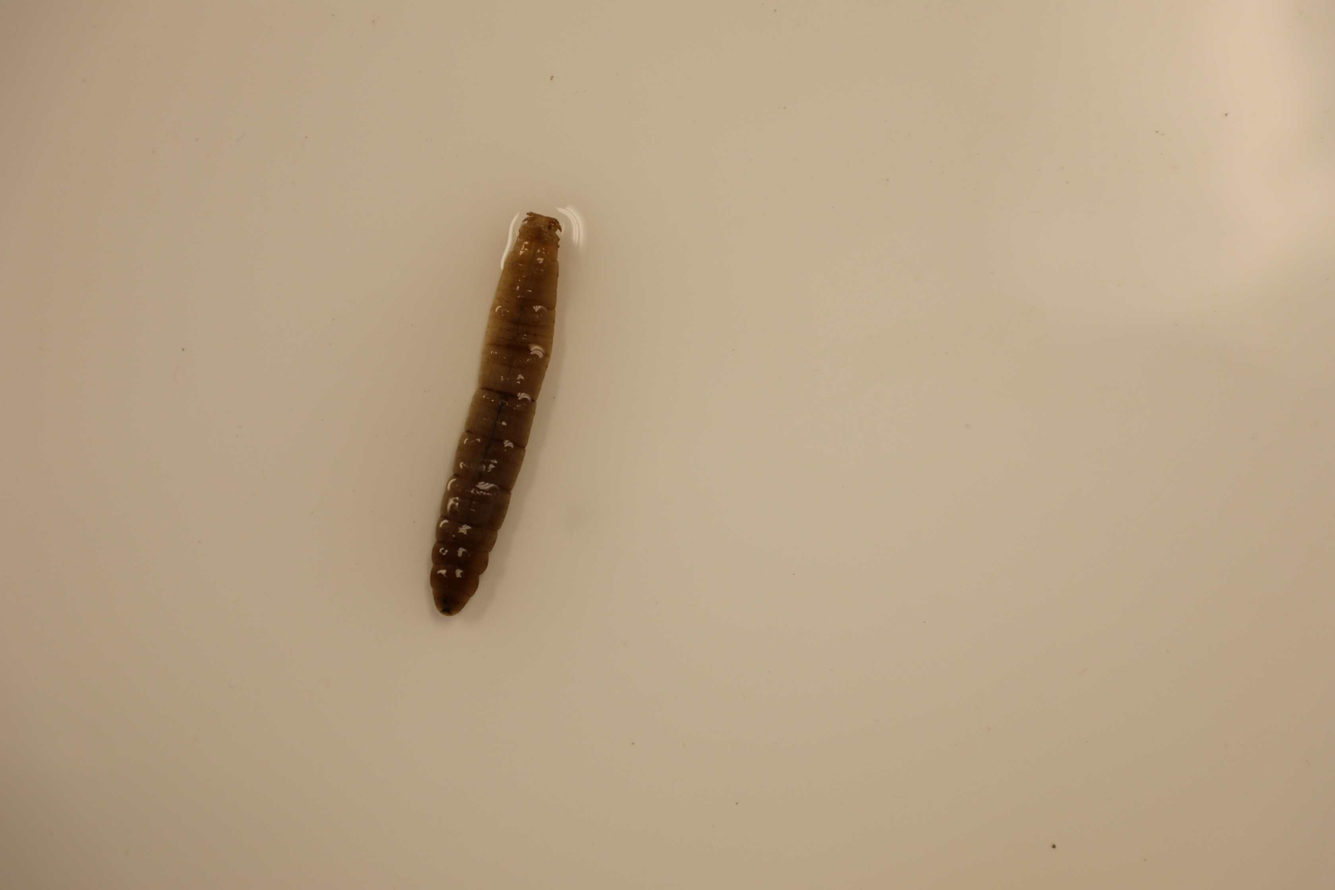Other: (428, 211, 564, 620)
